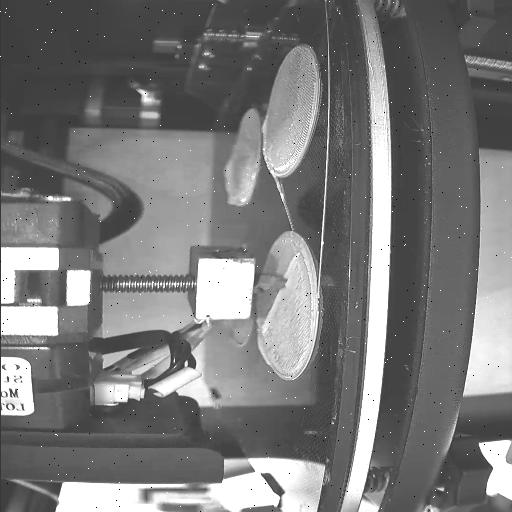over_extrusion: (252, 250, 299, 332), (220, 156, 244, 210), (254, 335, 270, 368), (224, 338, 248, 348), (258, 118, 268, 138)
